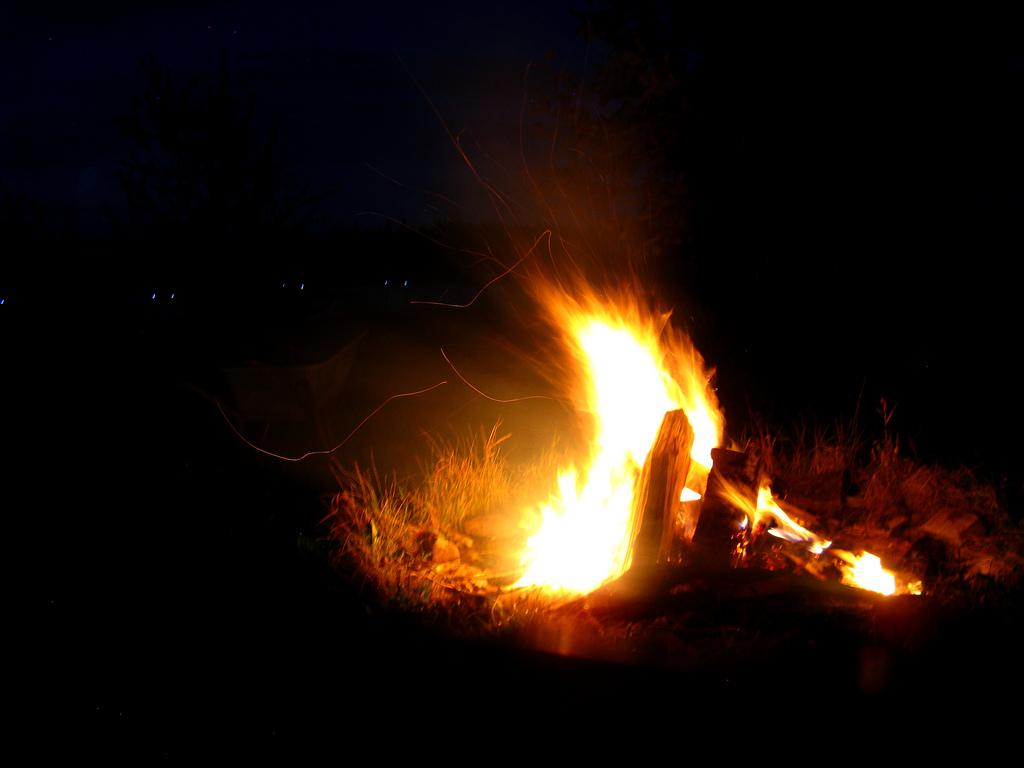fire: (520, 452, 656, 598), (576, 308, 660, 432), (850, 542, 900, 602)
